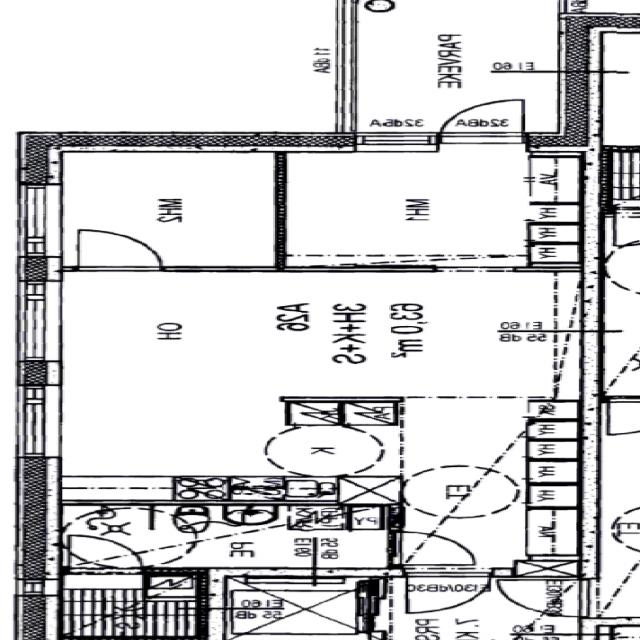door: (441, 95, 523, 152), (406, 568, 491, 615), (78, 229, 162, 272), (69, 535, 142, 574), (388, 532, 476, 564)
